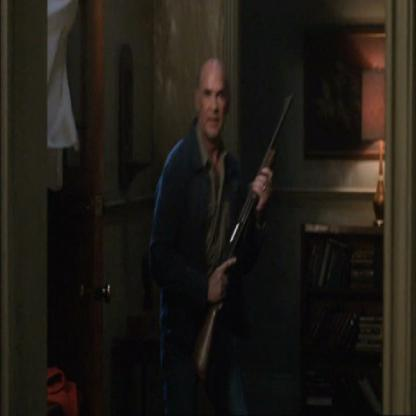Guns: (184, 87, 296, 390)
